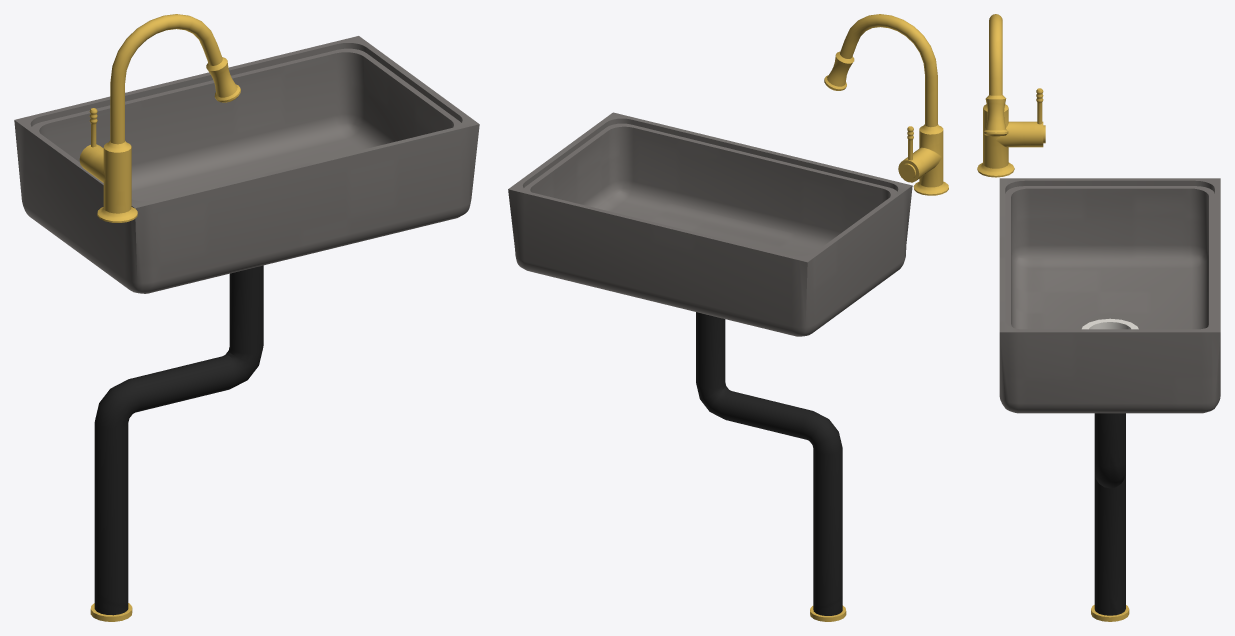
File: Sink07.glb
3 renders of one model, left to right at view 1: azimuth 30°, elevation 25°; view 2: azimuth 150°, elevation 25°; view 3: azimuth 270°, elevation 25°, orthographic. The views are drawn at different scales.
Visible parts, largest first — view 1: Sink07_model, SinkFaucet07, SinkFaucet07Handle; view 2: Sink07_model, SinkFaucet07, SinkFaucet07Handle; view 3: Sink07_model, SinkFaucet07, SinkFaucet07Handle, Sink07Net.
Part boxes in pixels (bbox=[...]): Sink07_model: bbox=[14, 36, 479, 621]; SinkFaucet07: bbox=[90, 14, 240, 222]; SinkFaucet07Handle: bbox=[79, 108, 103, 175]; Sink07_model: bbox=[508, 112, 912, 621]; SinkFaucet07: bbox=[824, 14, 948, 195]; SinkFaucet07Handle: bbox=[898, 126, 928, 182]; Sink07_model: bbox=[999, 178, 1220, 621]; SinkFaucet07: bbox=[977, 14, 1023, 177]; SinkFaucet07Handle: bbox=[1023, 88, 1045, 147]; Sink07Net: bbox=[1082, 318, 1138, 329].
Size of the model in its own units: 1.53 by 2.47 by 0.9231.
1 material, 1 textured.
